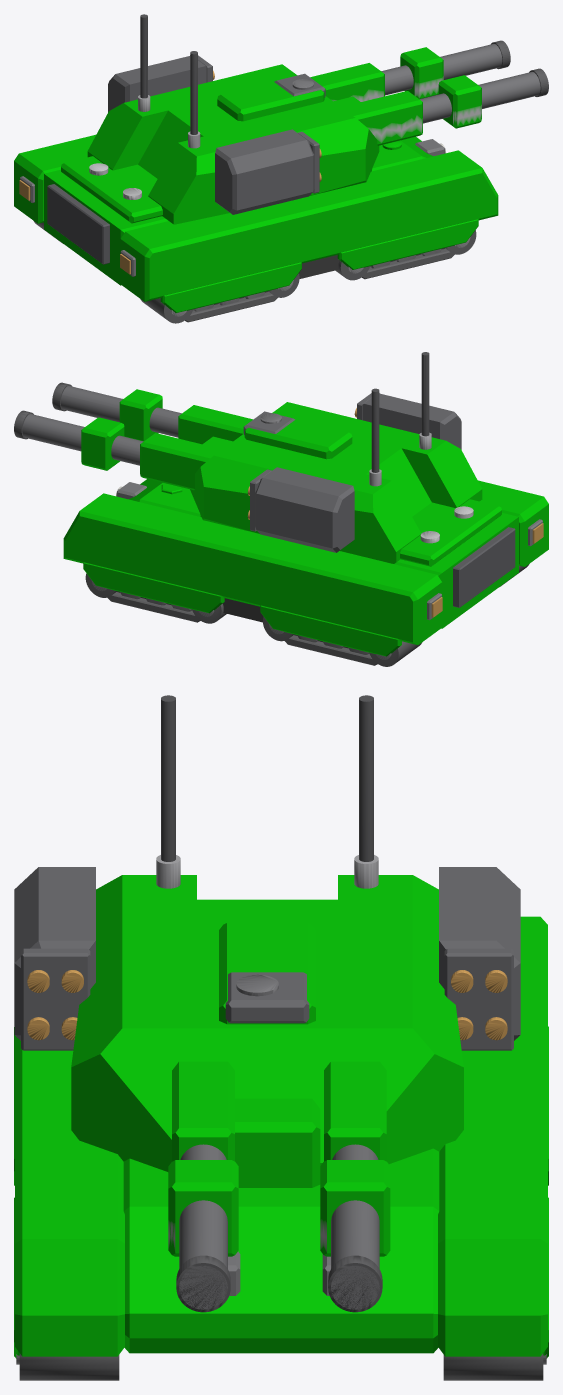
Rendered from mammoth-mk1.glb.
3 renders of one model, top to bottom at view 1: azimuth 30°, elevation 25°; view 2: azimuth 150°, elevation 25°; view 3: azimuth 270°, elevation 25°, orthographic. The views are drawn at different scales.
Visible parts, largest first — view 1: cover, turret, pod, turret_lobe, hull, turret_lobe_2, deckplate, grille, sleeve, skirt, skirt_2, cover_2 (+15 smaller); view 2: cover_2, turret, pod_2, hull, turret_lobe_2, turret_lobe, deckplate, sleeve_2, grille, skirt_3, skirt_4, pod (+14 smaller); view 3: turret, hull, cover_2, cover, mantlet, pod, pod_2, hatchblock, sleeve, sleeve_2, pod_front, pod_front_2 (+13 smaller).
Boxes of the visible parts, x1,y1,x2,y2 form: cover: (120,150,498,301); turret: (138,64,379,218); pod: (215,129,314,214); turret_lobe: (148,136,231,224); hull: (44,136,433,285); turret_lobe_2: (87,93,179,170); deckplate: (61,156,162,223); grille: (47,184,109,264); sleeve: (341,91,422,145); skirt: (160,262,301,312); skirt_2: (337,219,478,269); cover_2: (14,134,95,223); cover_2: (63,493,442,644); turret: (190,402,431,557); pod_2: (255,467,354,552); hull: (129,479,518,628); turret_lobe_2: (339,472,421,563); turret_lobe: (388,431,482,508); deckplate: (400,499,501,566); sleeve_2: (140,433,221,490); grille: (453,527,515,607); skirt_3: (260,605,401,656); skirt_4: (83,562,224,613); pod: (362,393,461,449); turret: (71,899,463,1171); hull: (123,1148,439,1353); cover_2: (438,916,547,1356); cover: (15,1036,124,1356); mantlet: (235,1098,320,1187); pod: (14,867,95,1040); pod_2: (439,867,520,1040); hatchblock: (219,923,315,1024); sleeve: (172,1061,234,1161); sleeve_2: (324,1061,386,1161); pod_front: (21,948,90,1050); pod_front_2: (444,948,513,1050).
Bounding box in the file's own units: 1.45 × 0.7201 × 0.7578.
